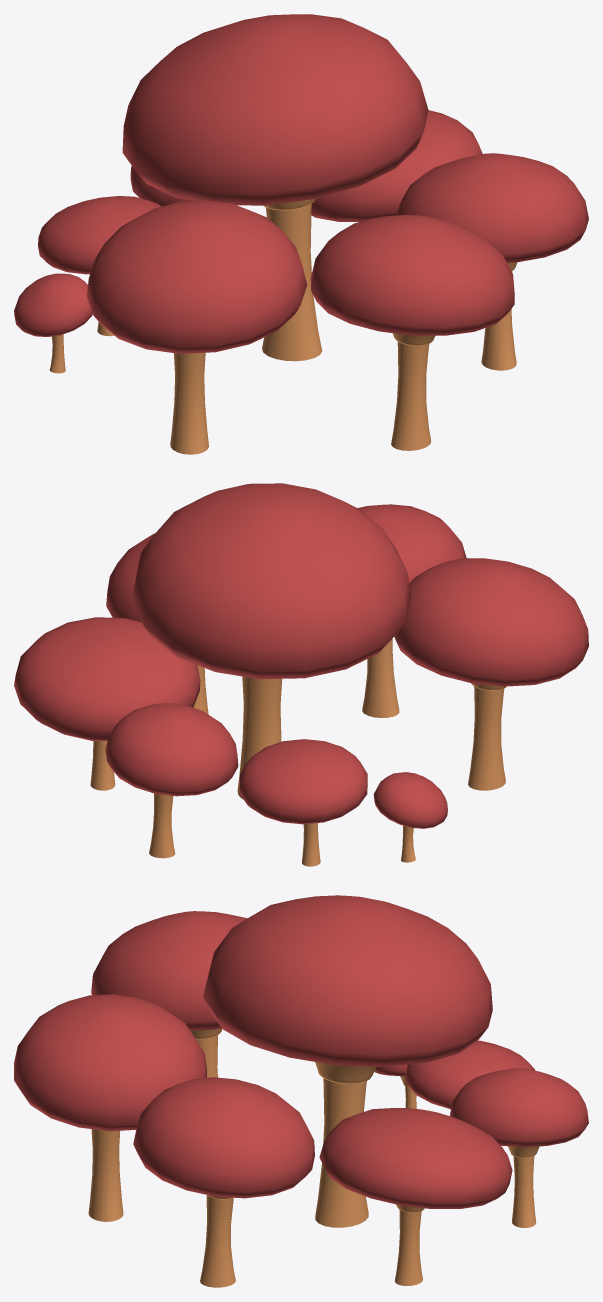
The model's file is Champi All low.FBX.
3 views of the same model, one above another, from view 1: azimuth 30°, elevation 25°; view 2: azimuth 150°, elevation 25°; view 3: azimuth 270°, elevation 25° (orthographic). The views are drawn at different scales.
Visible parts, largest first — view 1: champi tete001, Object041; view 2: champi tete001, Object041; view 3: champi tete001, Object041.
Part boxes in pixels (bbox=[...]): champi tete001: bbox=[14, 14, 588, 353]; Object041: bbox=[49, 198, 517, 454]; champi tete001: bbox=[14, 483, 588, 828]; Object041: bbox=[90, 638, 506, 866]; champi tete001: bbox=[14, 895, 588, 1208]; Object041: bbox=[88, 1028, 539, 1287].
Size of the model in its own units: 1050 by 662 by 1134.
